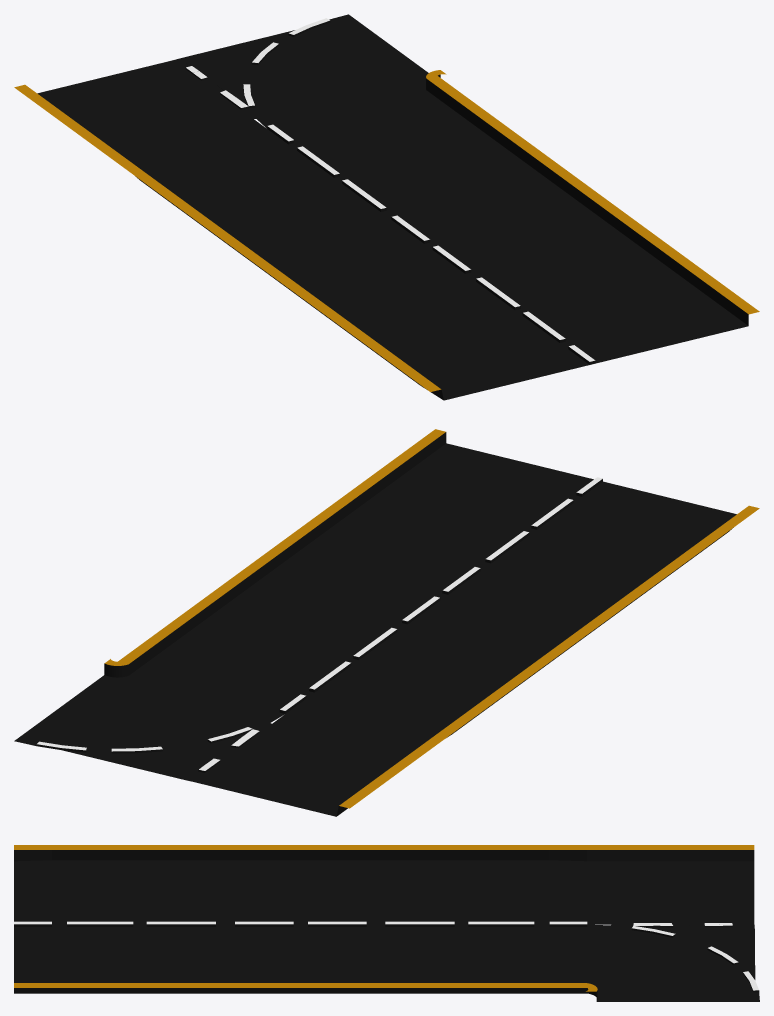
The model's file is road4_reto.obj.
3 renders of one model, top to bottom at view 1: azimuth 30°, elevation 25°; view 2: azimuth 150°, elevation 25°; view 3: azimuth 270°, elevation 25°, orthographic. The views are drawn at different scales.
Parts seen in each view (by area): view 1: Plane.004; view 2: Plane.004; view 3: Plane.004.
Boxes of the visible parts, x1,y1,x2,y2 form: Plane.004: [14, 14, 759, 400]; Plane.004: [14, 429, 759, 816]; Plane.004: [14, 845, 759, 1001].
Bounding box in the file's own units: 6.05 × 0.2013 × 13.01.
